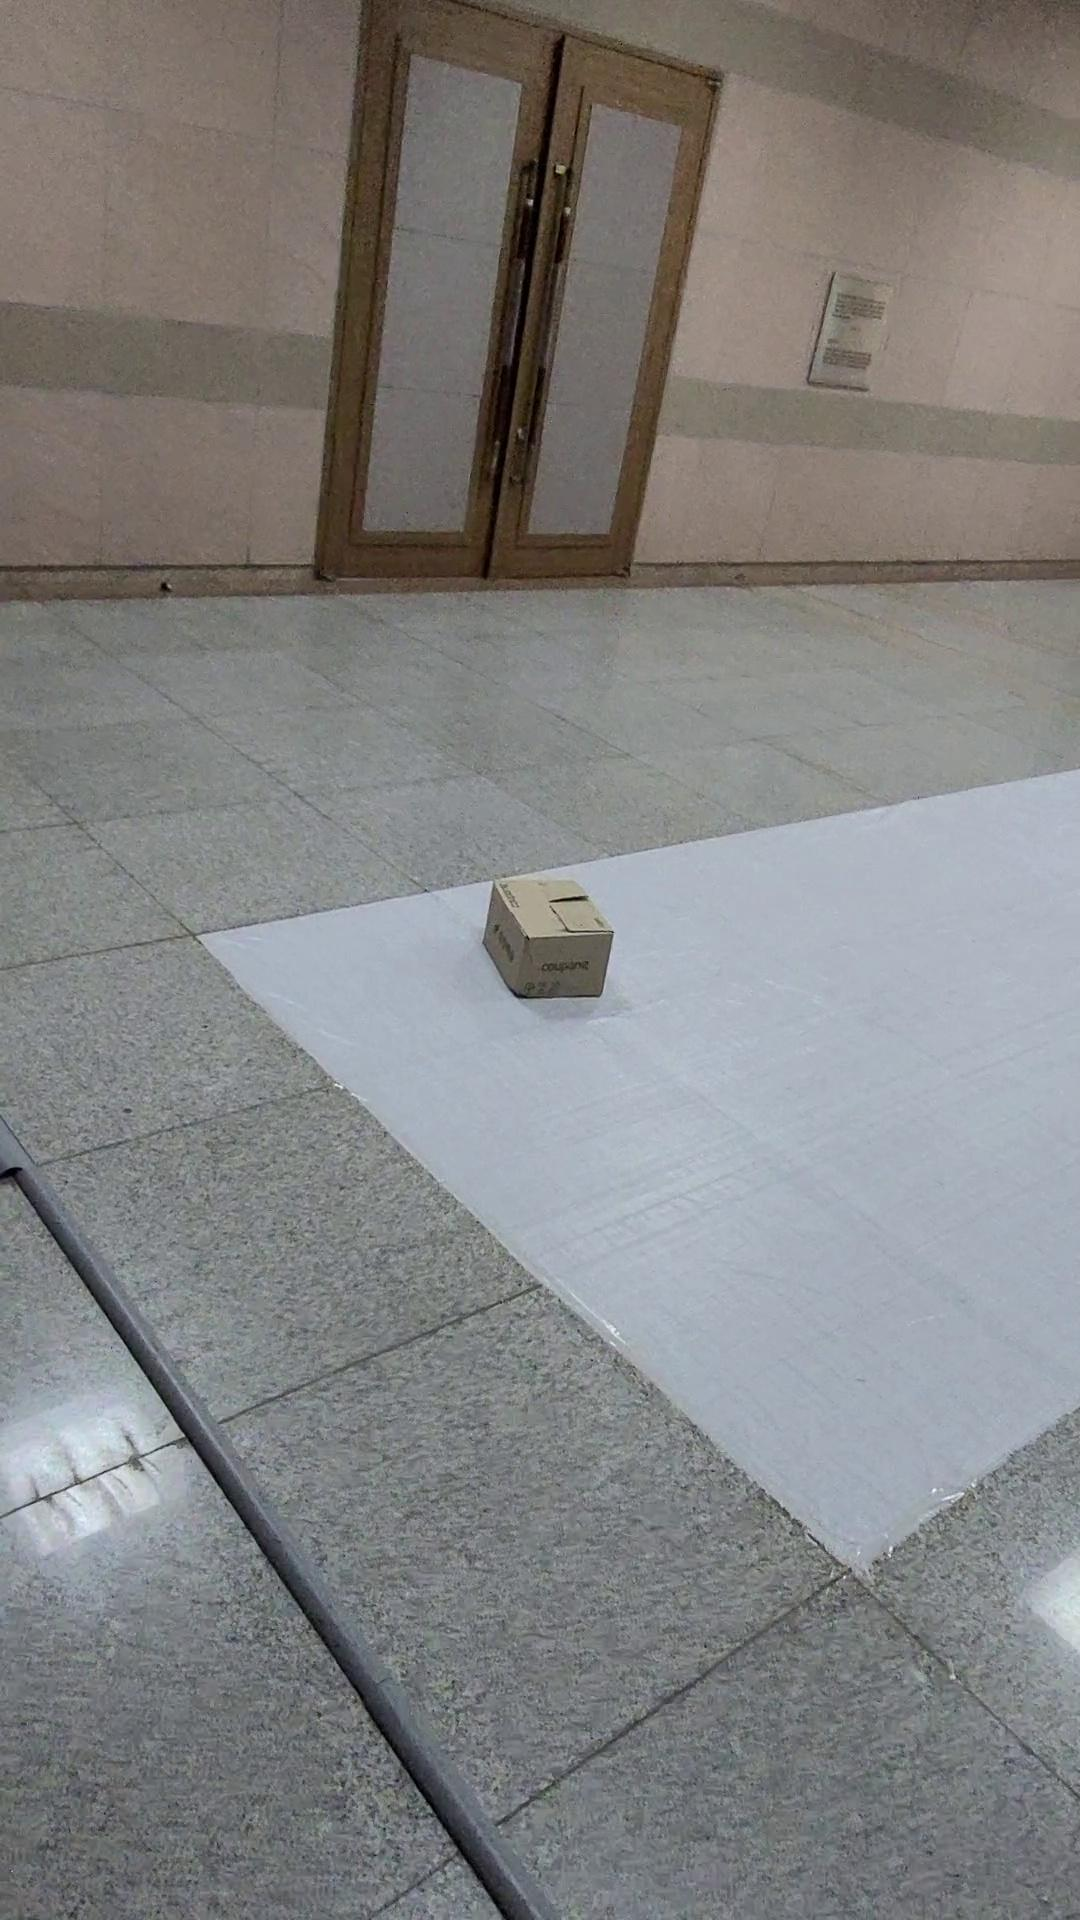Box: (454, 843, 626, 1018)
